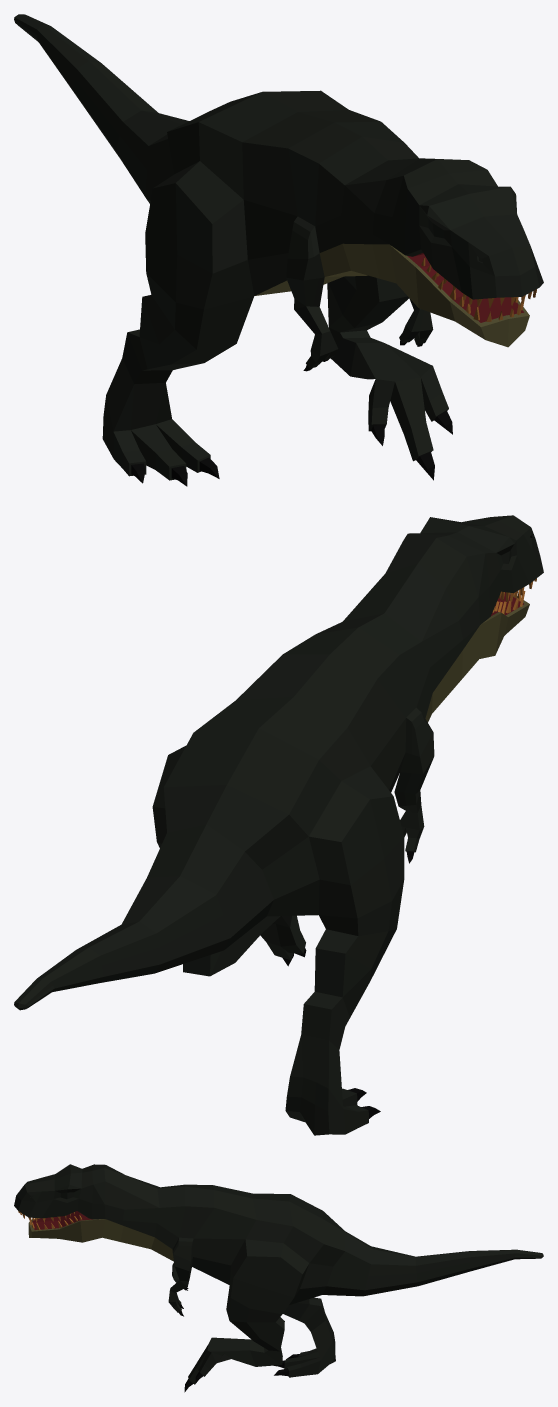
File: Trex_000029.obj
3 renders of one model, top to bottom at view 1: azimuth 30°, elevation 25°; view 2: azimuth 150°, elevation 25°; view 3: azimuth 270°, elevation 25°, orthographic. The views are drawn at different scales.
Visible parts, largest first — view 1: Trex_Cylinder; view 2: Trex_Cylinder; view 3: Trex_Cylinder.
Boxes of the visible parts, x1,y1,x2,y2 form: Trex_Cylinder: [14, 14, 543, 486]; Trex_Cylinder: [14, 515, 543, 1135]; Trex_Cylinder: [14, 1164, 543, 1392].
Size of the model in its own units: 8.03 by 14.53 by 31.38.
